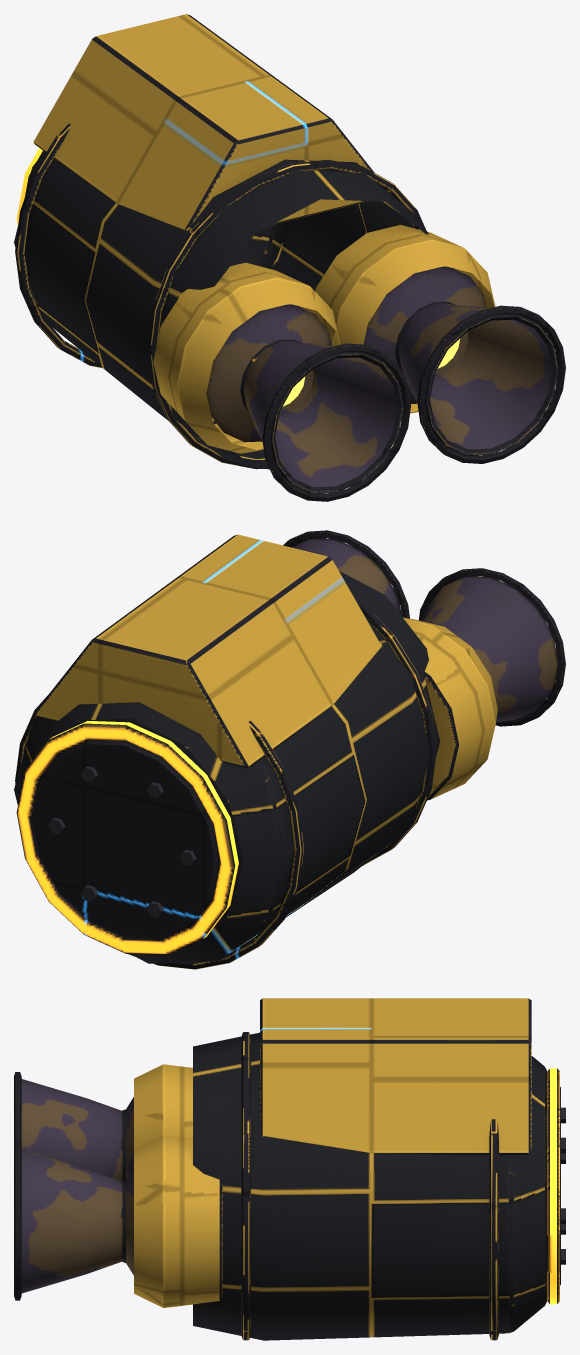
The model's file is motor_plasma_t4.fbx.
The picture shows the model from 3 angles, top to bottom: view 1: azimuth 30°, elevation 25°; view 2: azimuth 150°, elevation 25°; view 3: azimuth 270°, elevation 25°; orthographic projection. The views are drawn at different scales.
Visible parts, largest first — view 1: motor_plasma_t4; view 2: motor_plasma_t4; view 3: motor_plasma_t4.
Boxes of the visible parts, bbox=[...] form: motor_plasma_t4: bbox=[14, 14, 565, 501]; motor_plasma_t4: bbox=[14, 530, 565, 969]; motor_plasma_t4: bbox=[14, 998, 565, 1340].
Bounding box in the file's own units: 3.5 × 3.45 × 5.61.
